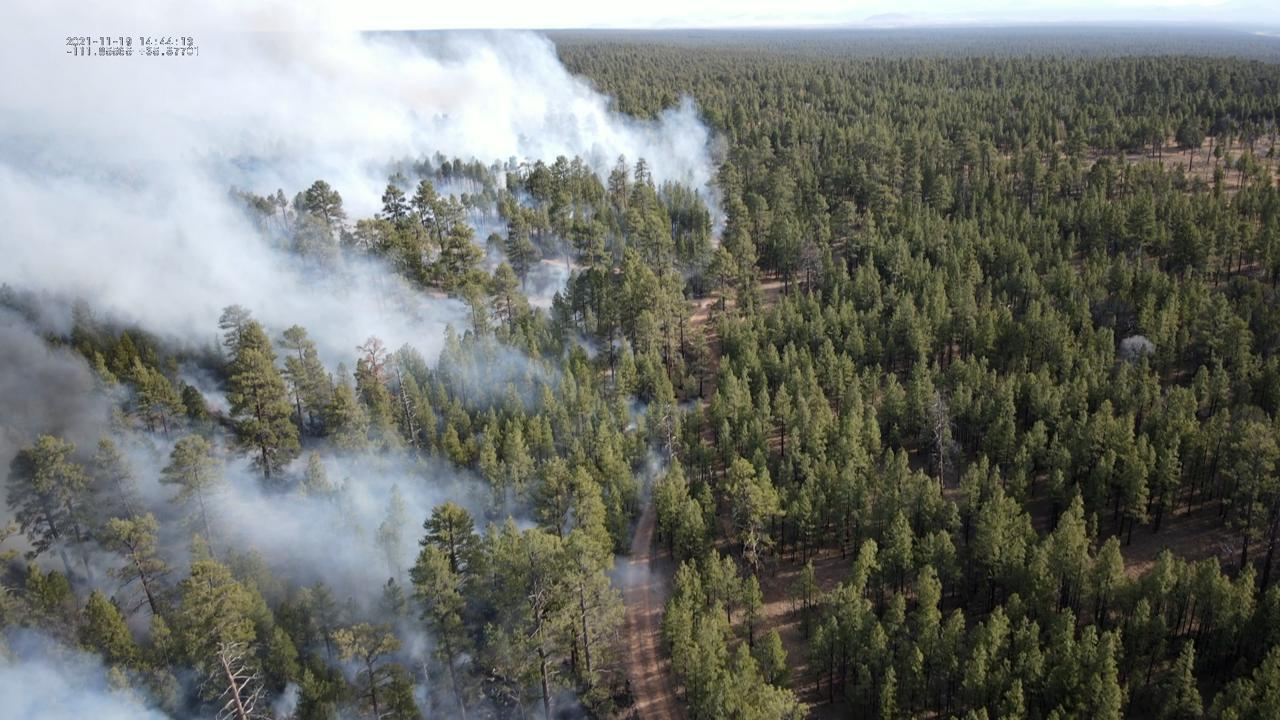smoke: (0, 0, 729, 720)
